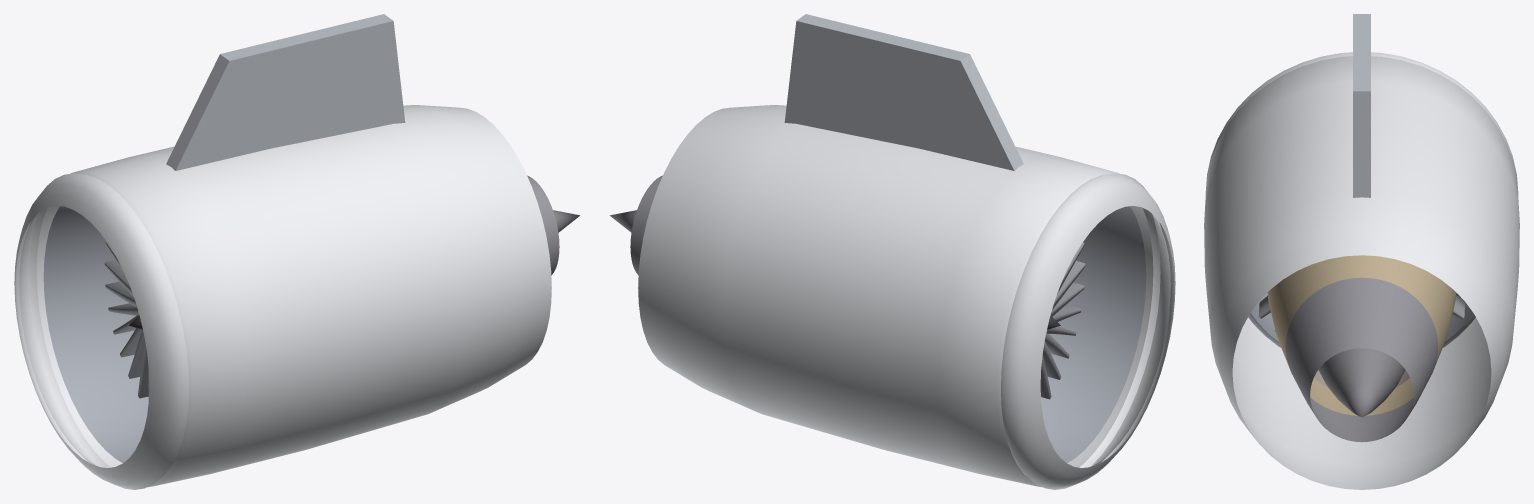
File: engine-cfm56-5b.glb
3 renders of one model, left to right at view 1: azimuth 30°, elevation 25°; view 2: azimuth 150°, elevation 25°; view 3: azimuth 270°, elevation 25°, orthographic. The views are drawn at different scales.
Parts seen in each view (by area): view 1: 01_Nacelle_Cowl, 10_Pylon, 01b_Inlet_Lip, 02_Fan_Case, 04_Fan_Blades, 08_Exhaust_Nozzle; view 2: 01_Nacelle_Cowl, 10_Pylon, 01b_Inlet_Lip, 02_Fan_Case, 04_Fan_Blades, 08_Exhaust_Nozzle; view 3: 01_Nacelle_Cowl, 08_Exhaust_Nozzle, 05_Core_Casing, 09_Exhaust_Plug, 10_Pylon, 01b_Inlet_Lip, 02_Fan_Case, 04_Fan_Blades.
Boxes of the visible parts, left/top/right/bottom form: 01_Nacelle_Cowl: left=19, top=105, right=551, bottom=487; 10_Pylon: left=166, top=14, right=405, bottom=170; 01b_Inlet_Lip: left=14, top=173, right=188, bottom=489; 02_Fan_Case: left=43, top=206, right=148, bottom=462; 04_Fan_Blades: left=104, top=241, right=149, bottom=401; 08_Exhaust_Nozzle: left=527, top=175, right=559, bottom=275; 01_Nacelle_Cowl: left=638, top=105, right=1170, bottom=487; 10_Pylon: left=784, top=14, right=1023, bottom=170; 01b_Inlet_Lip: left=1001, top=173, right=1175, bottom=489; 02_Fan_Case: left=1041, top=206, right=1146, bottom=462; 04_Fan_Blades: left=1040, top=242, right=1085, bottom=399; 08_Exhaust_Nozzle: left=630, top=175, right=662, bottom=275; 01_Nacelle_Cowl: left=1204, top=56, right=1519, bottom=489; 08_Exhaust_Nozzle: left=1285, top=277, right=1438, bottom=442; 05_Core_Casing: left=1267, top=255, right=1456, bottom=415; 09_Exhaust_Plug: left=1318, top=348, right=1405, bottom=417; 10_Pylon: left=1353, top=14, right=1370, bottom=197; 01b_Inlet_Lip: left=1205, top=52, right=1518, bottom=194; 02_Fan_Case: left=1248, top=293, right=1475, bottom=347; 04_Fan_Blades: left=1258, top=293, right=1465, bottom=331.
Bounding box in the file's own units: 3.64 × 2.74 × 2.07.
